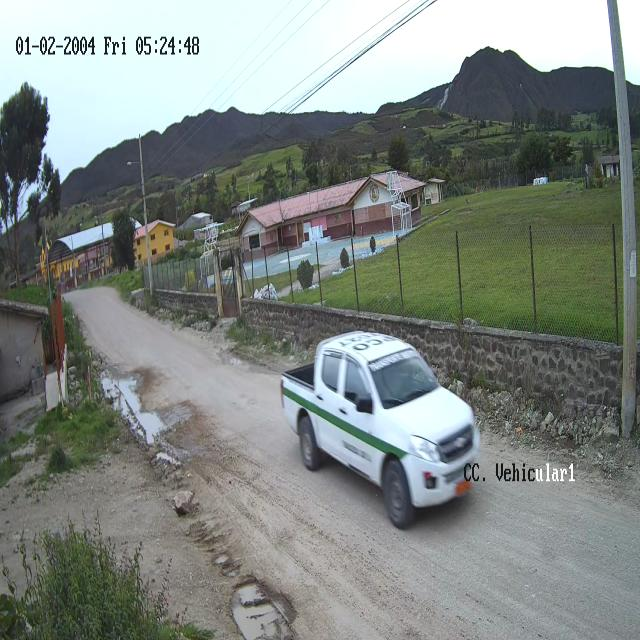CMT: (282, 332, 479, 531)
